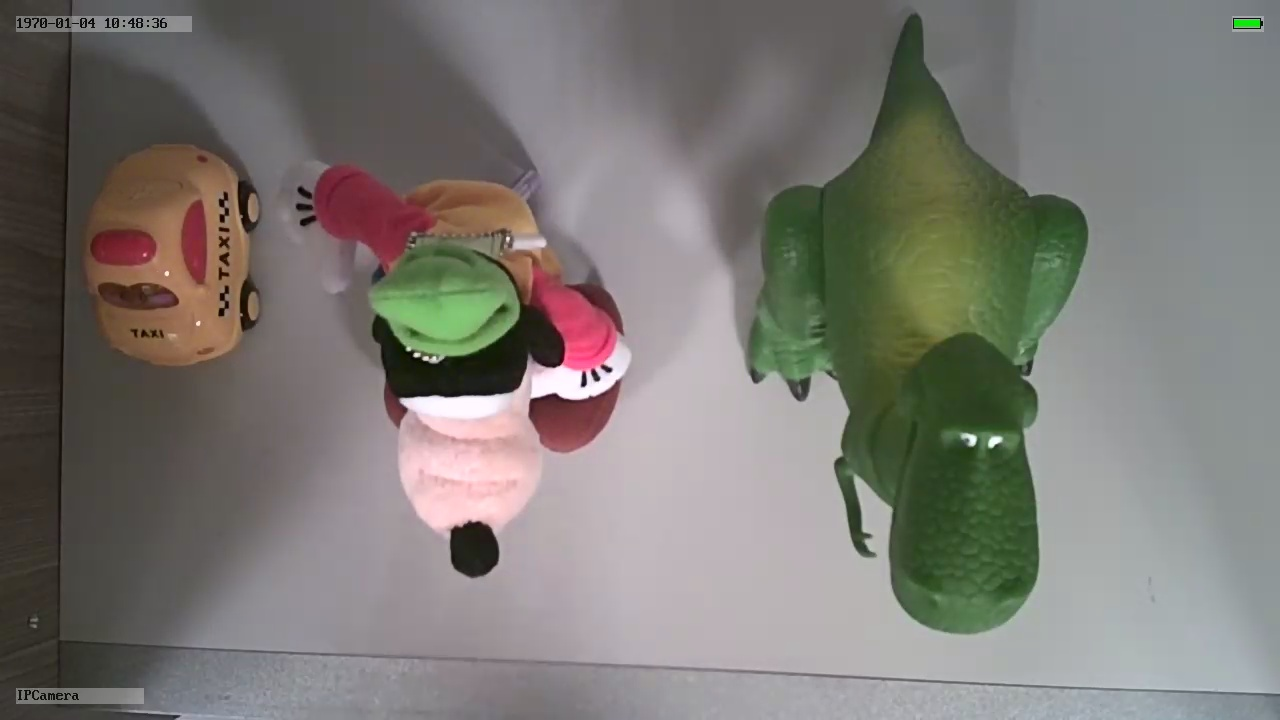car: (82, 139, 263, 369)
goofy: (275, 152, 633, 578)
rex: (749, 102, 1091, 635)
